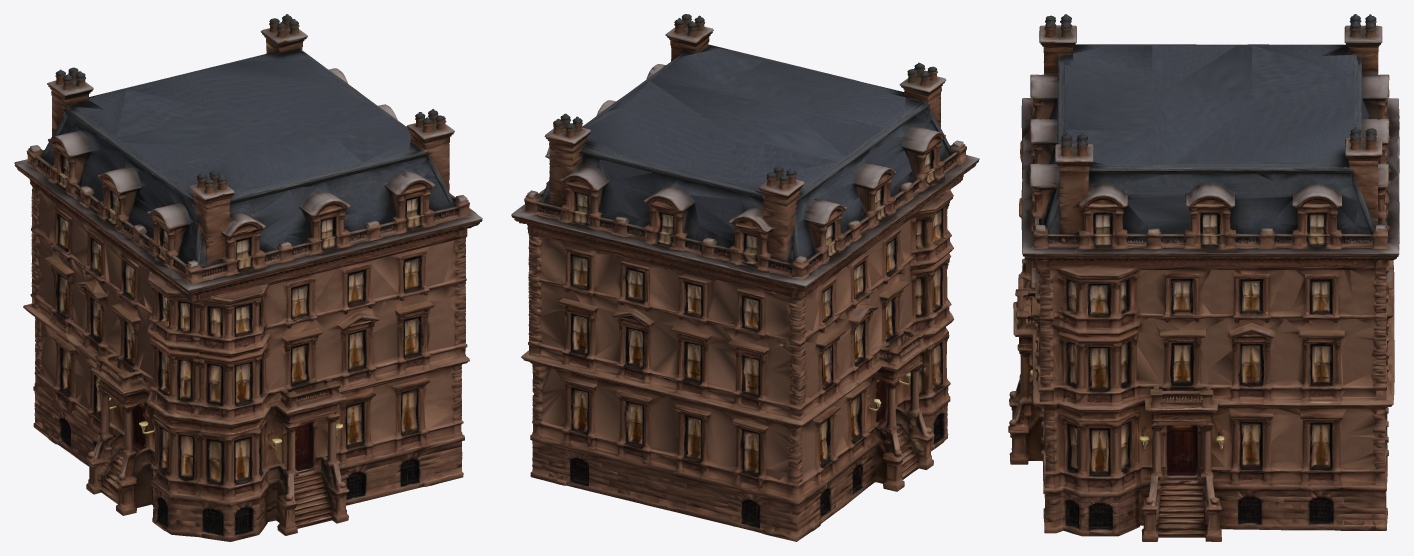
The model's file is GildedAgeMansion_LOD1.fbx.
The picture shows the model from 3 angles, left to right: view 1: azimuth 30°, elevation 25°; view 2: azimuth 150°, elevation 25°; view 3: azimuth 270°, elevation 25°; orthographic projection. The views are drawn at different scales.
Visible parts, largest first — view 1: GildedAgeMansion_LOD1; view 2: GildedAgeMansion_LOD1; view 3: GildedAgeMansion_LOD1.
Boxes of the visible parts, bbox=[...] form: GildedAgeMansion_LOD1: bbox=[14, 14, 482, 541]; GildedAgeMansion_LOD1: bbox=[511, 14, 979, 541]; GildedAgeMansion_LOD1: bbox=[1008, 14, 1399, 541].
Bounding box in the file's own units: 1466 × 1600 × 1465.
